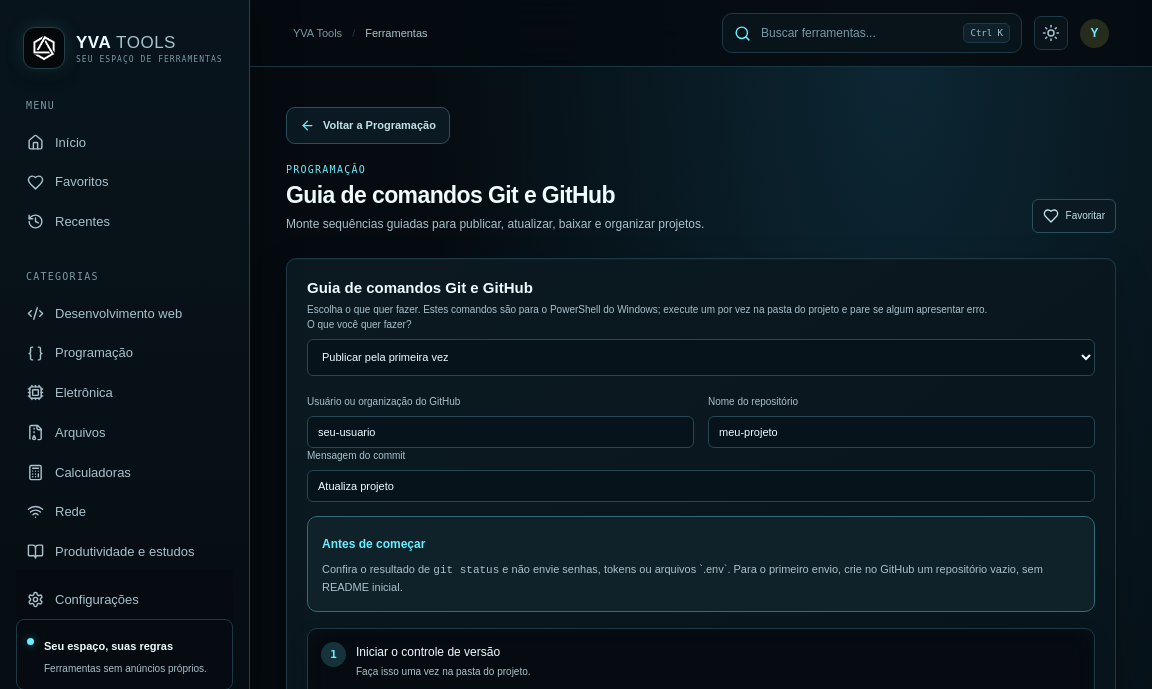
Test: Parte 2: busca, favoritos, histórico e preferências › abre o guia GitHub e mostra comandos ordenados para enviar atualizações
This screenshot has width=1152, height=689.
Expected: the 1st heading "Guia de comandos Git e GitHub" is shown, [286,182,615,208]
Step 1. Select "Enviar atualizações" in the dropdown labelled "O que você quer fazer?" → x=701, y=357, box [307,338,1095,376]
(page scrolled)
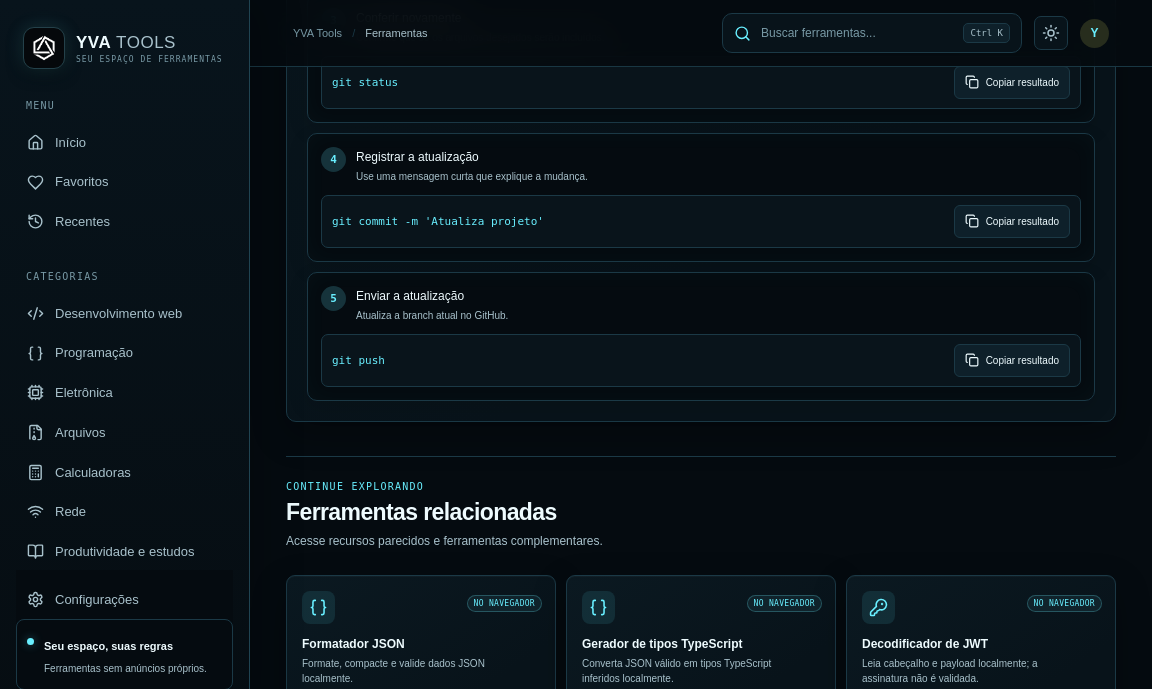
Expected: the text "git push" is shown, [332,354,385,367]
Expected: the text "git status" is shown 3 times
